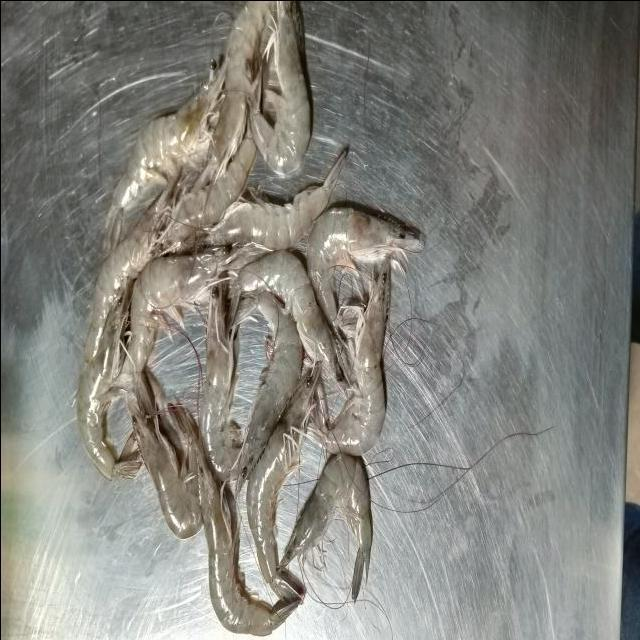shrimp: (168, 405, 301, 636), (105, 62, 225, 228), (245, 366, 318, 600), (84, 186, 171, 363), (231, 248, 342, 381), (194, 0, 270, 188), (306, 206, 424, 326), (319, 255, 389, 454), (206, 151, 345, 248), (280, 452, 371, 600), (236, 290, 302, 489), (128, 246, 230, 374), (76, 279, 140, 478), (128, 370, 202, 538), (249, 0, 310, 173), (168, 135, 255, 242), (199, 284, 241, 481)
